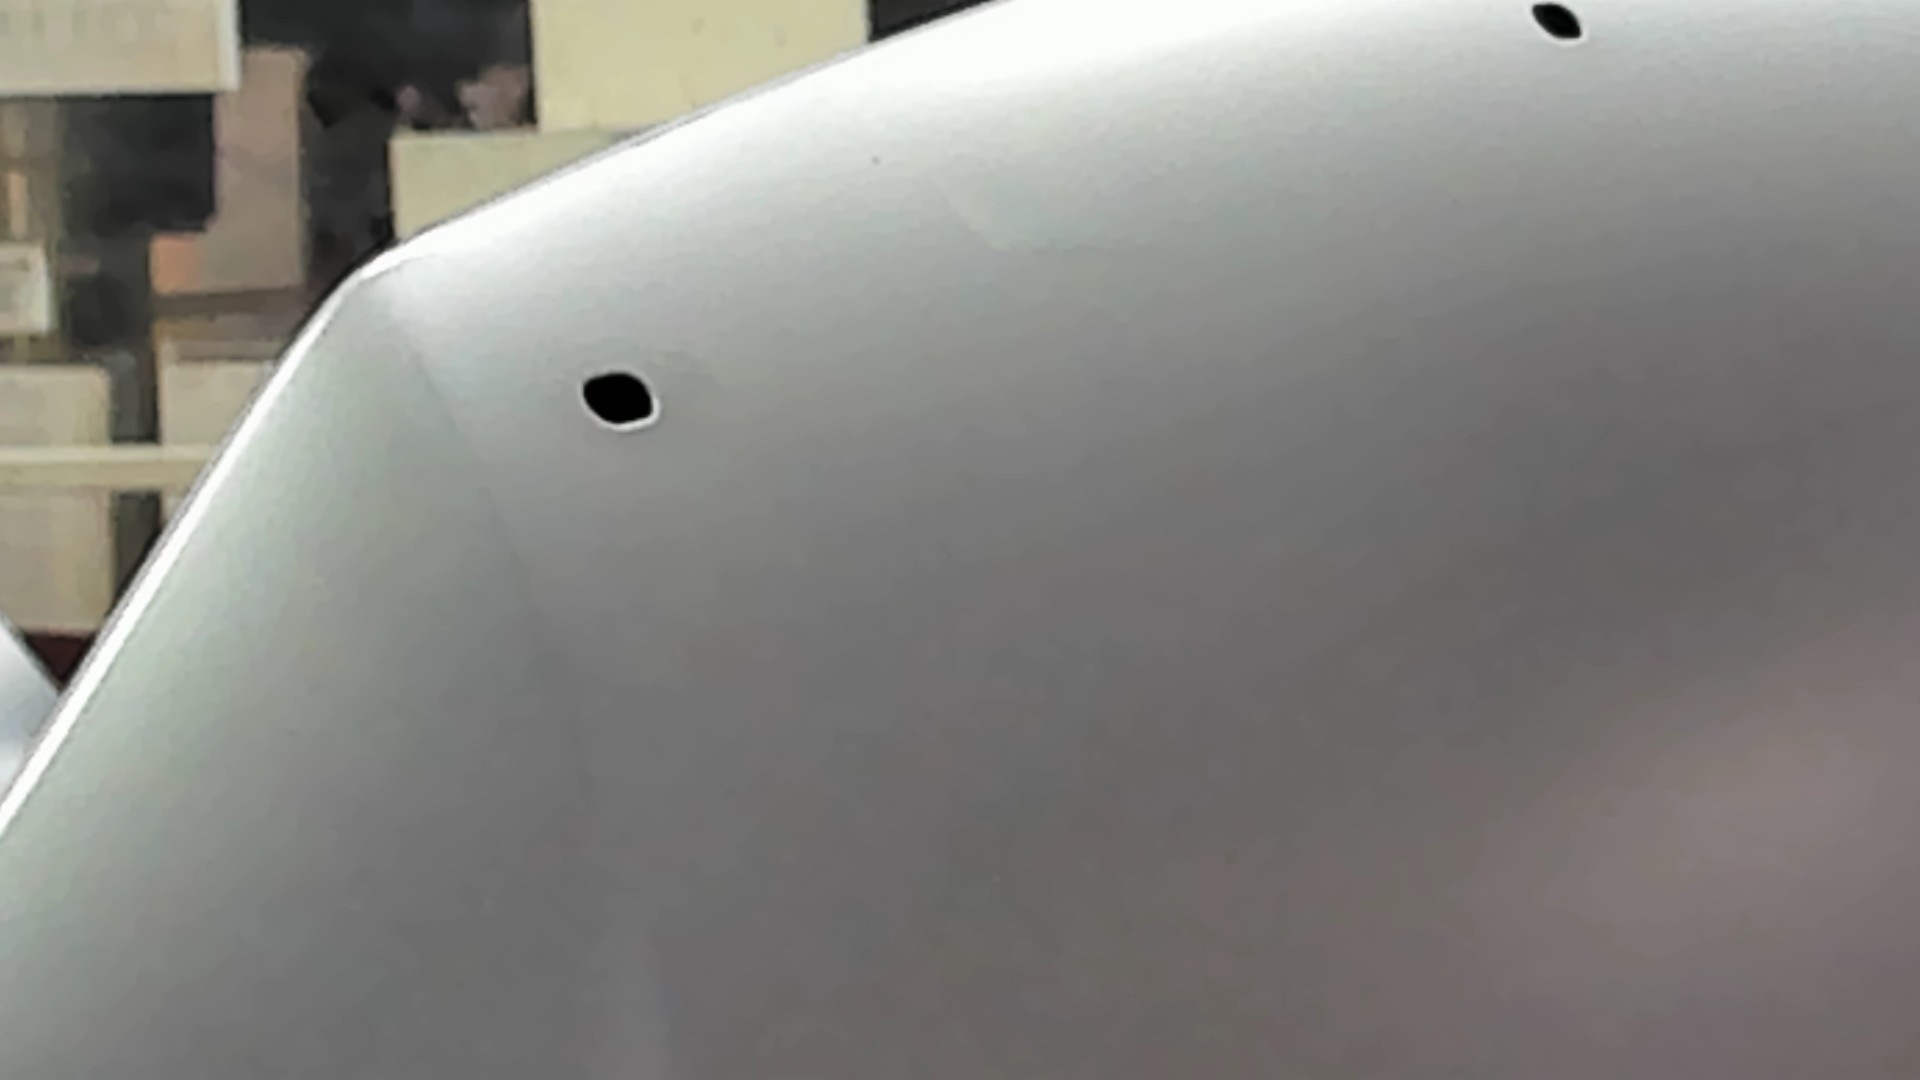amorfo: (579, 368, 657, 433), (1528, 1, 1586, 46)
